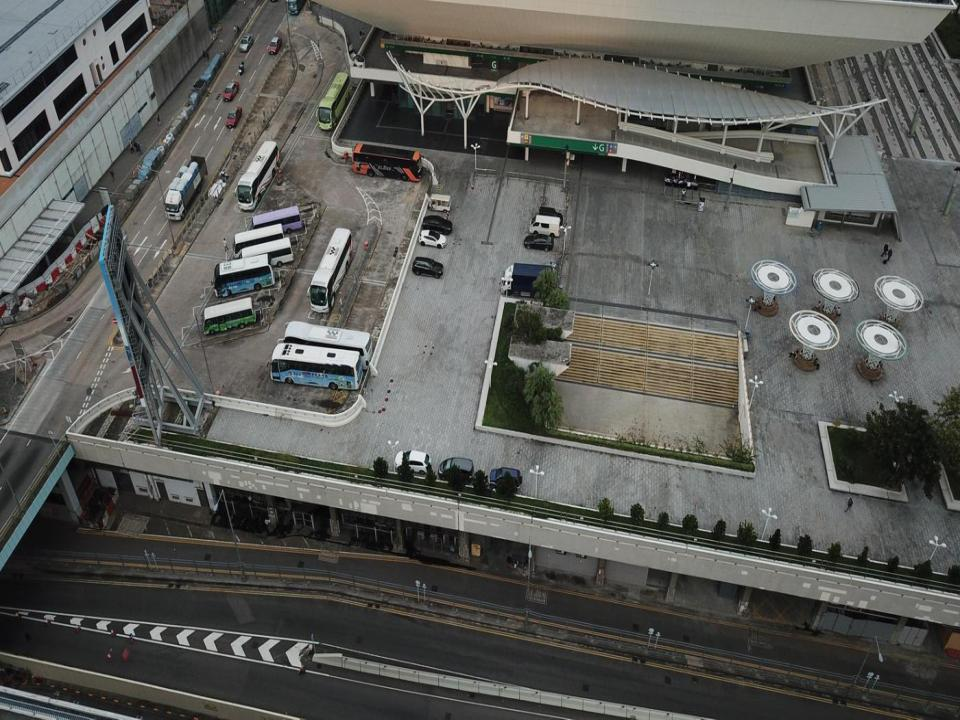bus: (277, 321, 372, 371), (266, 343, 362, 390), (307, 228, 353, 312), (234, 141, 281, 210), (211, 253, 275, 296), (352, 143, 423, 181), (202, 297, 255, 335), (316, 72, 350, 129), (232, 223, 285, 259), (239, 236, 294, 266), (251, 205, 303, 234), (287, 0, 308, 16)
car: (394, 449, 431, 475), (422, 216, 452, 234), (524, 233, 554, 251), (419, 229, 446, 248), (226, 106, 243, 127), (222, 82, 239, 100), (268, 36, 282, 55), (239, 34, 253, 52)
truck: (164, 156, 208, 221), (500, 262, 552, 299)
van: (438, 457, 474, 484), (488, 467, 522, 492), (412, 256, 444, 278), (529, 214, 560, 236), (539, 206, 562, 226)
